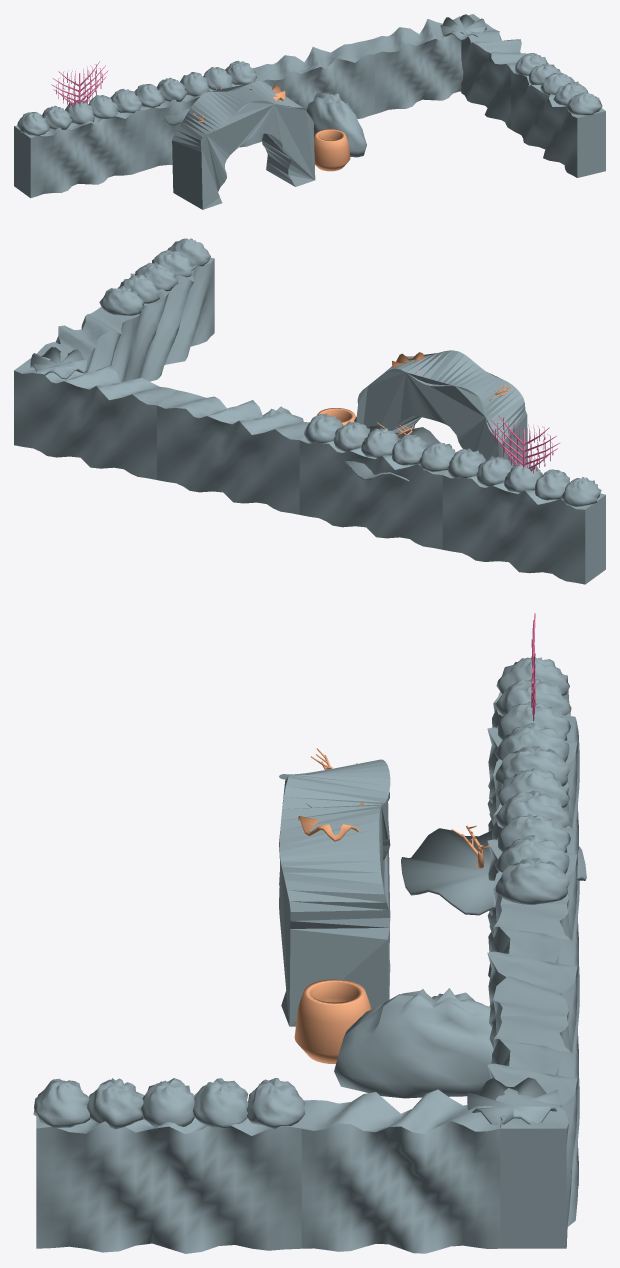
3 views of the same model, one above another, from view 1: azimuth 30°, elevation 25°; view 2: azimuth 150°, elevation 25°; view 3: azimuth 270°, elevation 25° (orthographic). The views are drawn at different scales.
Visible parts, largest first — view 1: 003-swim-through-arch/0, 000-reef-wall-straight/0, 006-reef-wall-corner/0, 007-reef-wall-straight/0, 002-reef-spur/0, 006-reef-wall-corner/1, 001-reef-wall-overhang/0, 002-reef-spur/1, 005-barrel-sponge/0, 006-reef-wall-corner/2, 007-reef-wall-straight/1, 000-reef-wall-straight/1 (+13 smaller); view 2: 002-reef-spur/0, 006-reef-wall-corner/0, 000-reef-wall-straight/0, 003-swim-through-arch/0, 001-reef-wall-overhang/0, 007-reef-wall-straight/0, 006-reef-wall-corner/1, 006-reef-wall-corner/2, 007-reef-wall-straight/5, 000-reef-wall-straight/1, 001-reef-wall-overhang/3, 001-reef-wall-overhang/5 (+12 smaller); view 3: 007-reef-wall-straight/0, 006-reef-wall-corner/1, 003-swim-through-arch/0, 006-reef-wall-corner/0, 002-reef-spur/1, 002-reef-spur/0, 001-reef-wall-overhang/6, 005-barrel-sponge/0, 001-reef-wall-overhang/5, 006-reef-wall-corner/2, 001-reef-wall-overhang/0, 000-reef-wall-straight/0 (+14 smaller).
Part boxes in pixels (x1,y1,x2,y2): 003-swim-through-arch/0: [172, 81, 315, 209]; 000-reef-wall-straight/0: [14, 107, 145, 198]; 006-reef-wall-corner/0: [359, 14, 489, 113]; 007-reef-wall-straight/0: [511, 68, 605, 177]; 002-reef-spur/0: [253, 42, 374, 141]; 006-reef-wall-corner/1: [461, 26, 527, 129]; 001-reef-wall-overhang/0: [141, 79, 260, 170]; 002-reef-spur/1: [306, 93, 366, 157]; 005-barrel-sponge/0: [314, 129, 350, 171]; 006-reef-wall-corner/2: [440, 14, 486, 40]; 007-reef-wall-straight/1: [567, 92, 602, 115]; 000-reef-wall-straight/1: [17, 112, 49, 136]; 002-reef-spur/0: [157, 390, 309, 514]; 006-reef-wall-corner/0: [14, 357, 176, 479]; 000-reef-wall-straight/0: [442, 471, 605, 584]; 003-swim-through-arch/0: [354, 350, 528, 467]; 001-reef-wall-overhang/0: [299, 436, 447, 549]; 007-reef-wall-straight/0: [97, 257, 214, 381]; 006-reef-wall-corner/1: [36, 310, 132, 382]; 006-reef-wall-corner/2: [30, 347, 87, 379]; 007-reef-wall-straight/5: [99, 286, 144, 315]; 000-reef-wall-straight/1: [561, 477, 601, 506]; 001-reef-wall-overhang/3: [361, 428, 399, 458]; 001-reef-wall-overhang/5: [304, 413, 343, 443]; 007-reef-wall-straight/0: [36, 1091, 301, 1253]; 006-reef-wall-corner/1: [301, 1089, 500, 1253]; 003-swim-through-arch/0: [279, 759, 390, 1026]; 006-reef-wall-corner/0: [487, 1016, 579, 1248]; 002-reef-spur/1: [334, 988, 493, 1098]; 002-reef-spur/0: [487, 904, 579, 1070]; 001-reef-wall-overhang/6: [401, 828, 586, 915]; 005-barrel-sponge/0: [294, 979, 371, 1063]; 001-reef-wall-overhang/5: [495, 858, 570, 904]; 006-reef-wall-corner/2: [467, 1077, 559, 1126]; 001-reef-wall-overhang/0: [487, 802, 579, 977]; 000-reef-wall-straight/0: [487, 690, 579, 844].
Bounding box in the file's own units: 16.24 × 3.72 × 8.34.
